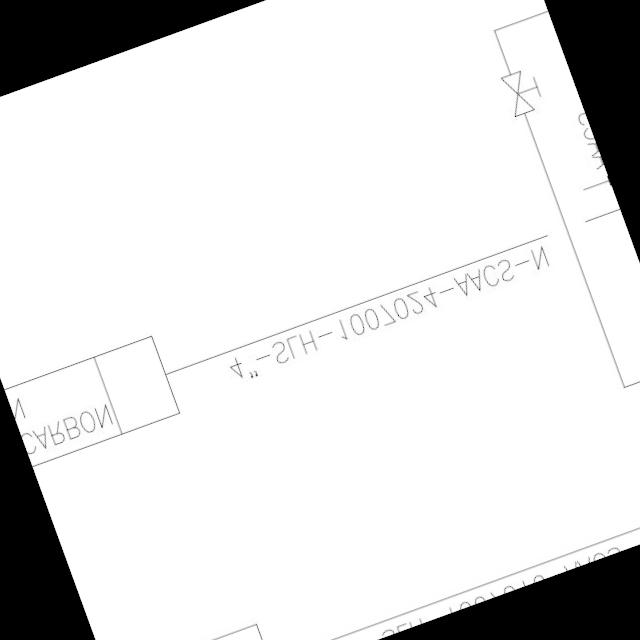HV: (496, 59, 553, 120)
